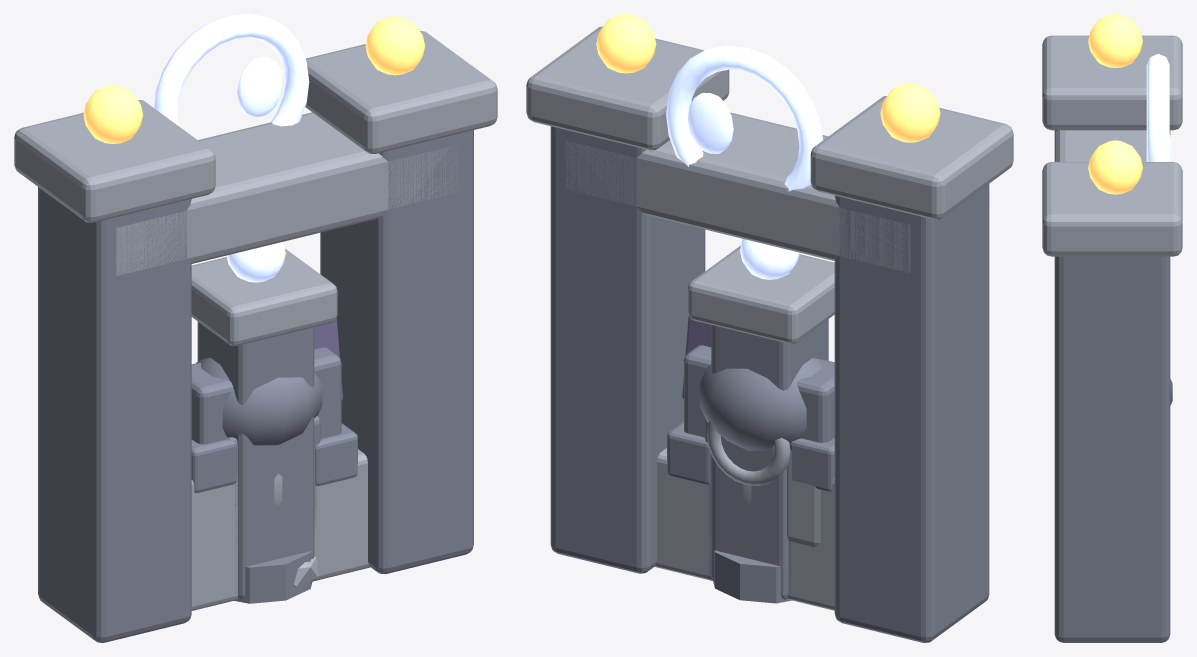
Rendered from moonlit-castle-kit.glb.
The picture shows the model from 3 angles, left to right: view 1: azimuth 30°, elevation 25°; view 2: azimuth 150°, elevation 25°; view 3: azimuth 270°, elevation 25°; orthographic projection. The views are drawn at different scales.
Visible parts, largest first — view 1: MoonGateTower_-0.98, MoonGateTower_0.98, MoonGateLintel, MoonGateTowerCap_-0.98, MoonGateTowerCap_0.98, GatePostBody, GatePostCap, MoonCrownArc, WallBlock_0, StatueHelmet, WallBlock_2, WindowWall (+9 smaller); view 2: MoonGateTower_-0.98, MoonGateTower_0.98, MoonGateLintel, MoonGateTowerCap_-0.98, MoonGateTowerCap_0.98, GatePostBody, GatePostCap, MoonCrownArc, StatueHelmet, WallBlock_2, WindowWall, WallBlock_0 (+10 smaller); view 3: MoonGateTower_0.98, MoonGateTowerCap_0.98, MoonGateTowerCap_-0.98, MoonCrownArc, MoonGateLight_0.98, MoonGateLight_-0.98, MoonGateLintel.
Part boxes in pixels (x1=…): MoonGateTower_-0.98: x1=38, y1=187, x2=191, y2=642; MoonGateTower_0.98: x1=320, y1=130, x2=473, y2=574; MoonGateLintel: x1=116, y1=112, x2=458, y2=275; MoonGateTowerCap_-0.98: x1=14, y1=100, x2=215, y2=222; MoonGateTowerCap_0.98: x1=305, y1=31, x2=497, y2=153; GatePostBody: x1=197, y1=321, x2=314, y2=599; GatePostCap: x1=191, y1=248, x2=337, y2=345; MoonCrownArc: x1=153, y1=14, x2=309, y2=126; WallBlock_0: x1=191, y1=474, x2=238, y2=610; StatueHelmet: x1=196, y1=358, x2=322, y2=445; WallBlock_2: x1=313, y1=449, x2=370, y2=581; WindowWall: x1=191, y1=347, x2=341, y2=444; MoonGateTower_-0.98: x1=834, y1=184, x2=989, y2=642; MoonGateTower_0.98: x1=550, y1=126, x2=705, y2=573; MoonGateLintel: x1=565, y1=112, x2=910, y2=273; MoonGateTowerCap_-0.98: x1=810, y1=96, x2=1013, y2=219; MoonGateTowerCap_0.98: x1=526, y1=26, x2=729, y2=150; GatePostBody: x1=711, y1=319, x2=828, y2=599; GatePostCap: x1=688, y1=245, x2=834, y2=343; MoonCrownArc: x1=666, y1=46, x2=822, y2=191; StatueHelmet: x1=699, y1=358, x2=822, y2=450; WallBlock_2: x1=654, y1=448, x2=711, y2=580; WindowWall: x1=684, y1=345, x2=834, y2=442; WallBlock_0: x1=788, y1=479, x2=834, y2=610; MoonGateTower_0.98: x1=1054, y1=256, x2=1170, y2=642; MoonGateTowerCap_0.98: x1=1042, y1=162, x2=1182, y2=256; MoonGateTowerCap_-0.98: x1=1042, y1=35, x2=1182, y2=130; MoonCrownArc: x1=1146, y1=53, x2=1169, y2=161; MoonGateLight_0.98: x1=1088, y1=140, x2=1142, y2=194; MoonGateLight_-0.98: x1=1088, y1=14, x2=1142, y2=67; MoonGateLintel: x1=1054, y1=130, x2=1170, y2=161.
Size of the model in its own units: 2.88 by 3.63 by 0.92.
